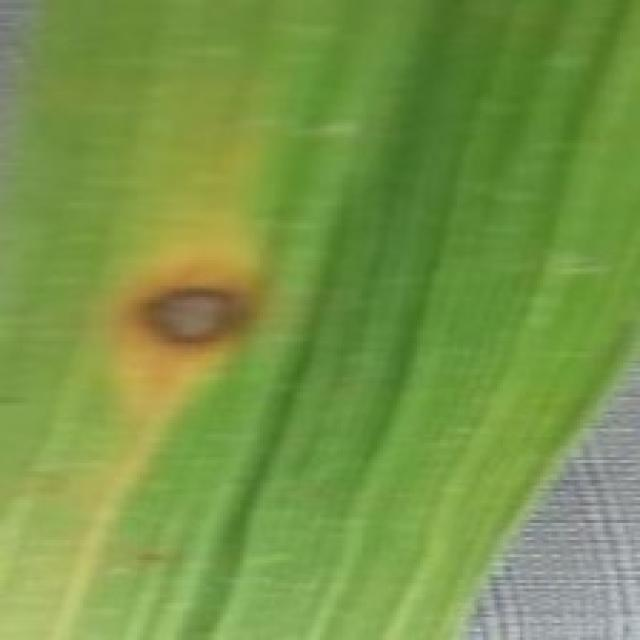Rice___Brown_Spot: (1, 0, 637, 637)
